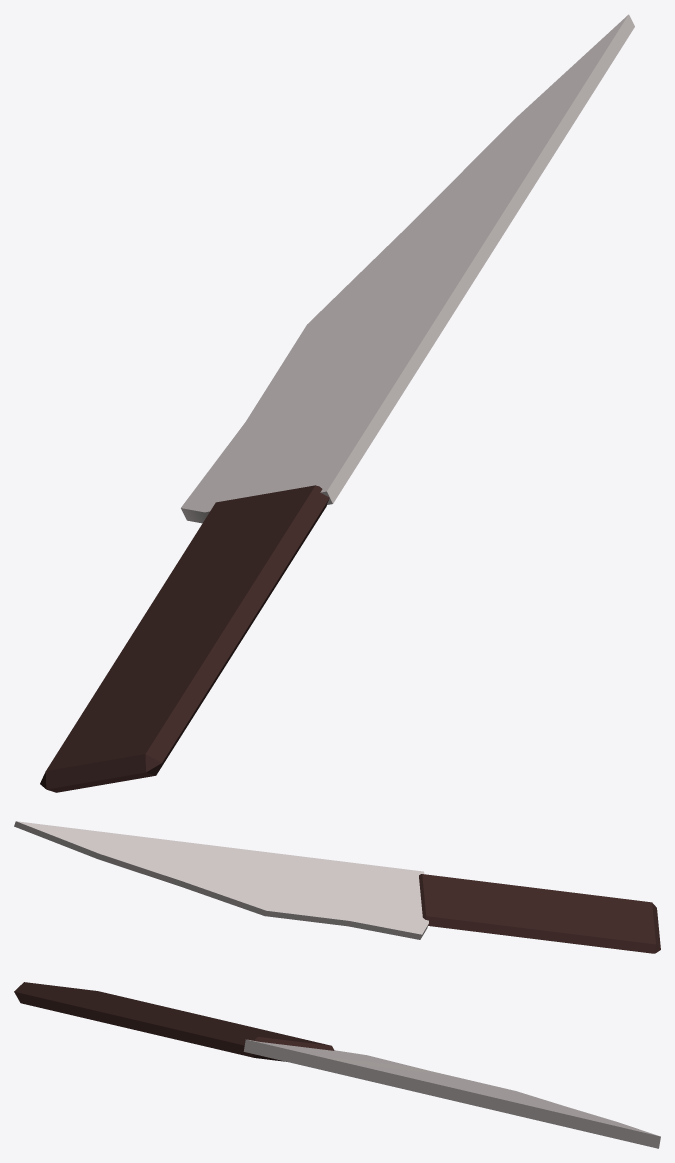
The model's file is pisau.fbx.
The picture shows the model from 3 angles, top to bottom: view 1: azimuth 30°, elevation 25°; view 2: azimuth 150°, elevation 25°; view 3: azimuth 270°, elevation 25°; orthographic projection. The views are drawn at different scales.
Parts seen in each view (by area): view 1: Cube.157, Cube.156; view 2: Cube.157, Cube.156; view 3: Cube.157, Cube.156.
Part boxes in pixels (<box>): Cube.157: <box>181,14,634,523</box>; Cube.156: <box>40,485,329,792</box>; Cube.157: <box>14,821,428,939</box>; Cube.156: <box>419,874,660,953</box>; Cube.157: <box>243,1039,660,1148</box>; Cube.156: <box>14,982,334,1061</box>.
Size of the model in its own units: 610 by 184 by 450.
